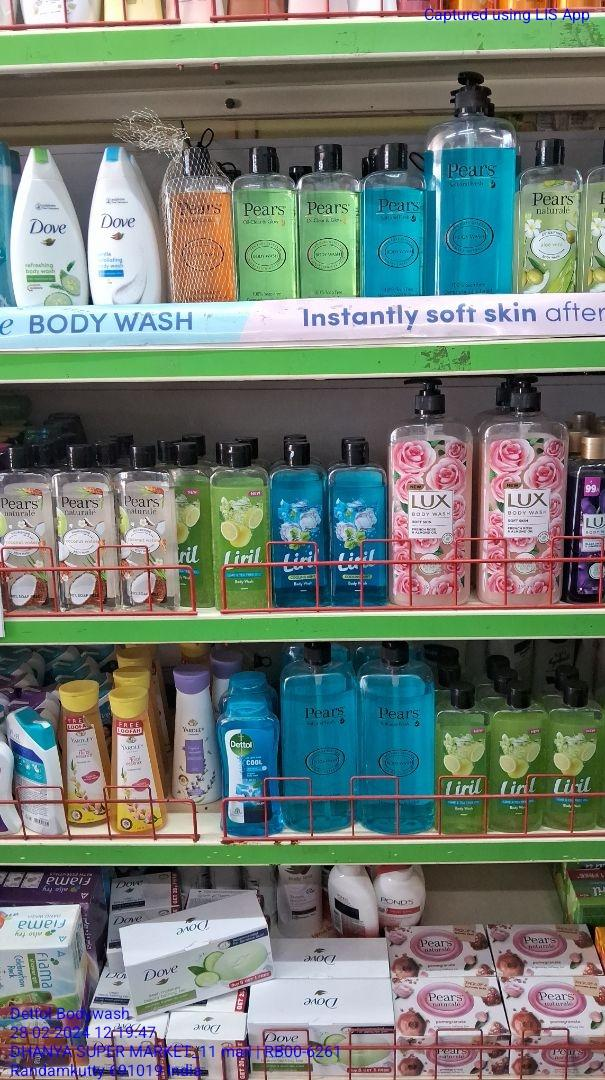Dettol_Bodywash_Cool: (222, 700, 273, 841)
Dove_Gentle_Exfoliating_Body_Wash_250ML: (88, 145, 158, 306)
Dove_Refreshing_Body_Wash_250ML: (15, 148, 85, 310)
Liril_Cooling_Mint_Body_Wash_250ML: (332, 438, 389, 611), (273, 439, 328, 612)
Liril_Lime_and_Tea_Tree_Oil_Body_Wash_250ML: (212, 438, 271, 614), (491, 679, 545, 837), (437, 688, 486, 840), (551, 683, 600, 830), (171, 437, 210, 611)
Lux_Black_Orchid_Scent_and_Juniper_Oil_Body_Wash_245ML: (568, 432, 605, 607)
Pears_Naturale_Aloe_Vera_Body_Wash_250ML: (517, 136, 580, 294)
Pears_Pure_Glycerin_and_Lemon_Flower_Extracts_Body_Wash_250ML: (233, 143, 297, 302), (300, 139, 356, 300)
Pears_Pure_Glycerin_and_Mint_Extracts_Body_Wash_250ML: (362, 140, 421, 299)
